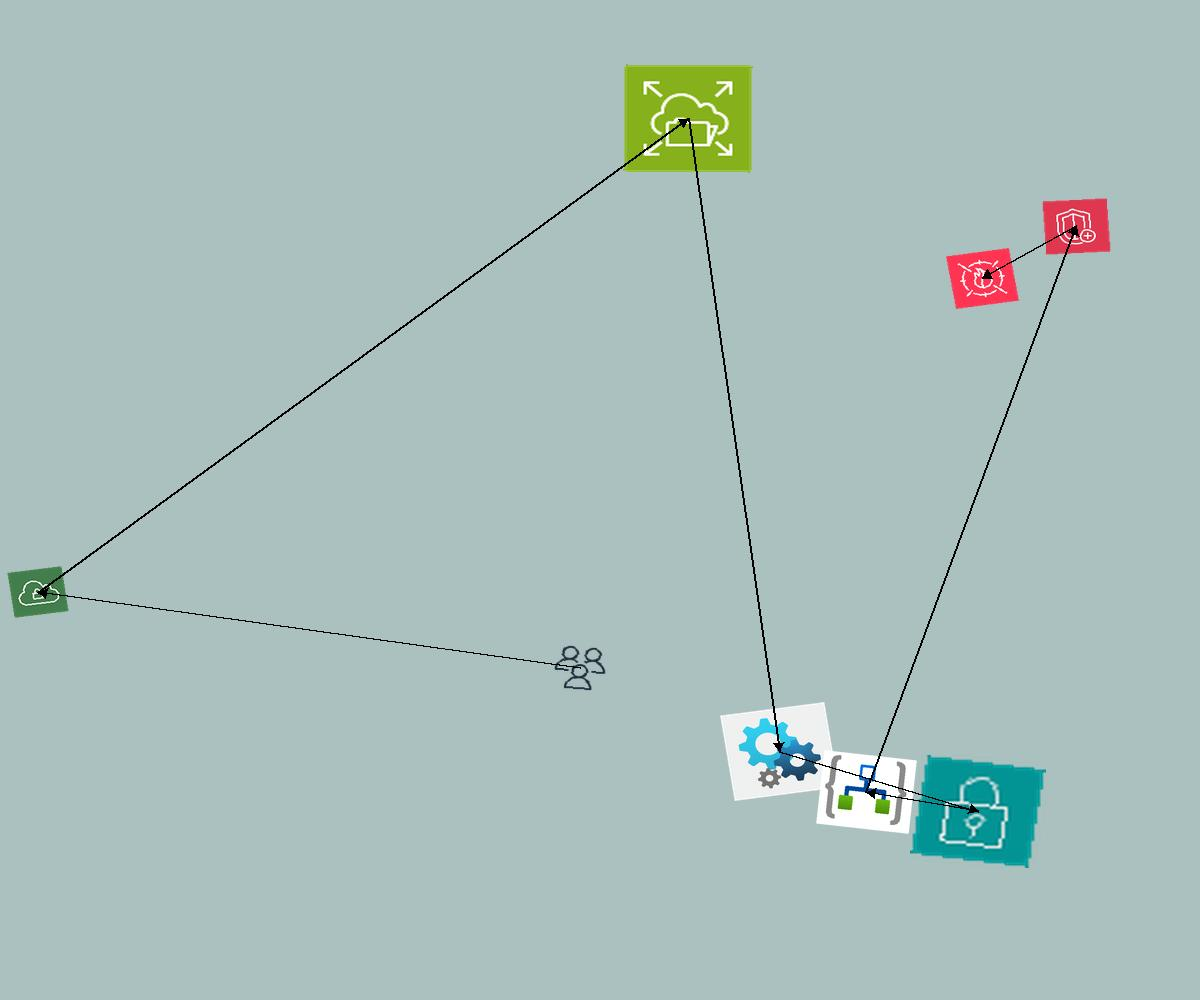AWS-EFS: (623, 64, 753, 173)
AWS-Private-subnet: (910, 755, 1046, 868)
AWS-Private_vpc: (7, 566, 69, 618)
AWS-Res_Users: (549, 642, 611, 694)
AWS-Shield: (1042, 198, 1111, 255)
AWS-WAF: (946, 248, 1019, 309)
Azure_api: (720, 702, 839, 801)
Azure_integration-204-Logic-Apps: (816, 750, 917, 834)
